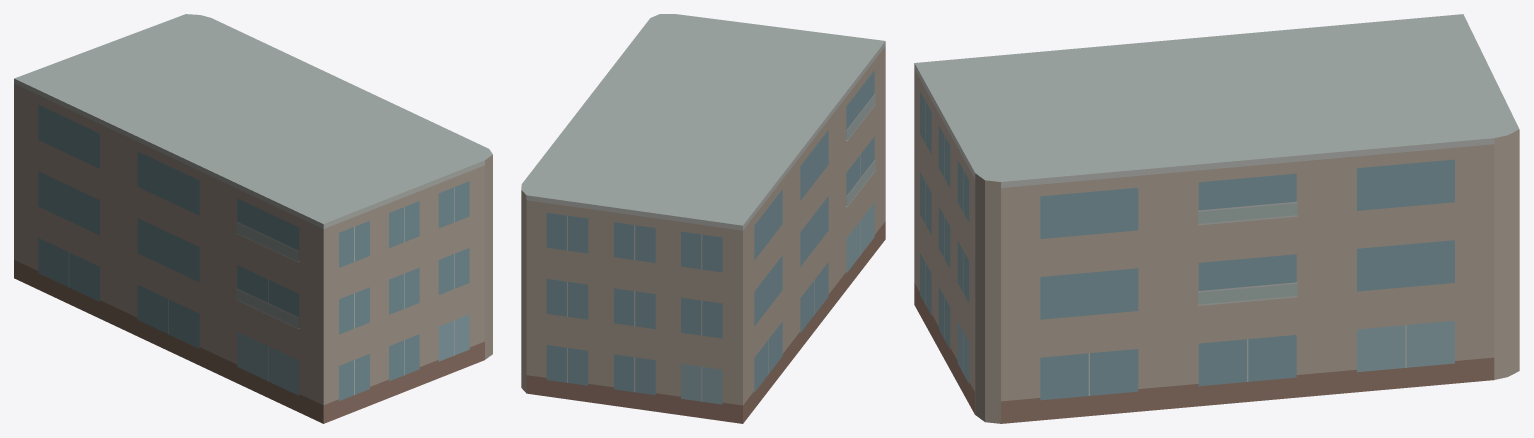
Rendered from survey-upis-32493047.glb.
The picture shows the model from 3 angles, left to right: view 1: azimuth 30°, elevation 25°; view 2: azimuth 150°, elevation 25°; view 3: azimuth 270°, elevation 25°; orthographic projection. The views are drawn at different scales.
Parts seen in each view (by area): view 1: survey-upis-32493047.tmp; view 2: survey-upis-32493047.tmp; view 3: survey-upis-32493047.tmp.
Boxes of the visible parts, <box> form: survey-upis-32493047.tmp: <box>14,14,492,423</box>; survey-upis-32493047.tmp: <box>521,14,885,423</box>; survey-upis-32493047.tmp: <box>914,14,1519,423</box>.
Bounding box in the file's own units: 14.61 × 9.8 × 22.23.
